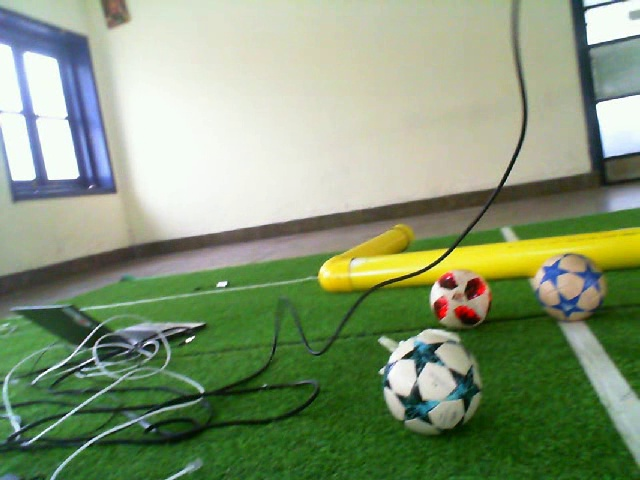ball: (380, 331, 486, 439), (531, 249, 610, 324), (427, 267, 495, 332)
